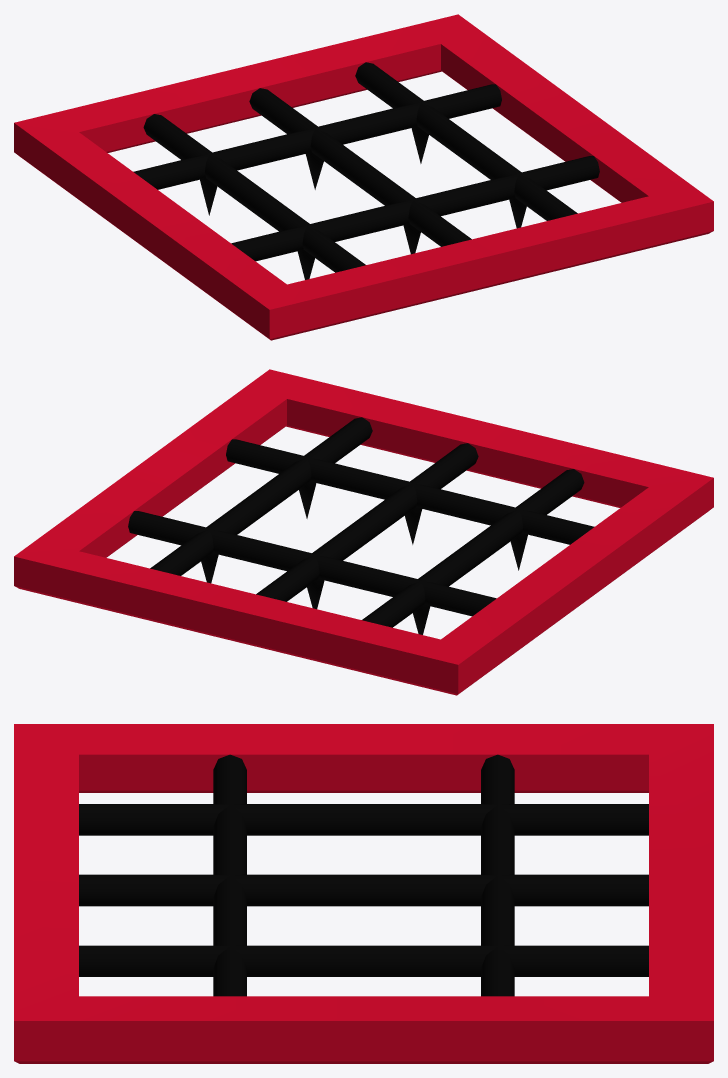
File: SM_Ceiling_Opening.fbx
3 renders of one model, top to bottom at view 1: azimuth 30°, elevation 25°; view 2: azimuth 150°, elevation 25°; view 3: azimuth 270°, elevation 25°, orthographic. The views are drawn at different scales.
Visible parts, largest first — view 1: SM_Ceiling_Opening; view 2: SM_Ceiling_Opening; view 3: SM_Ceiling_Opening.
Part boxes in pixels (x1=…): SM_Ceiling_Opening: x1=14, y1=14, x2=713, y2=340; SM_Ceiling_Opening: x1=14, y1=369, x2=713, y2=695; SM_Ceiling_Opening: x1=14, y1=724, x2=713, y2=1063.
Size of the model in its own units: 210 by 209 by 28.94.
